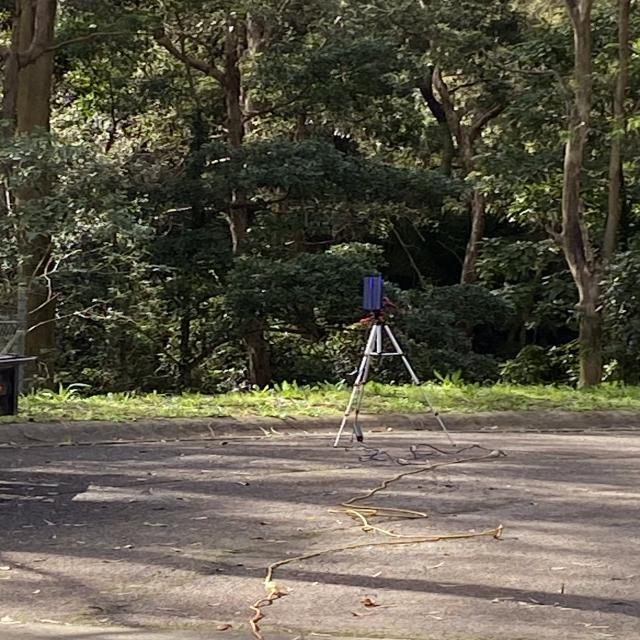matrix: (362, 275, 384, 311)
